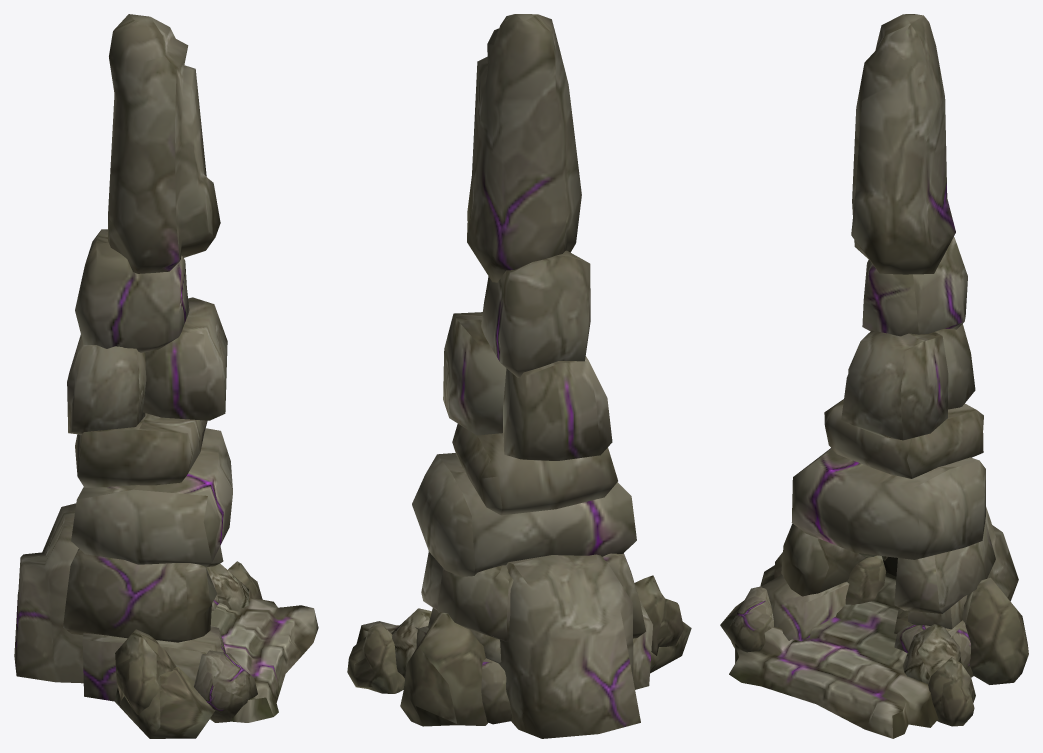
The model's file is DN_gh_tower03.FBX.
3 renders of one model, left to right at view 1: azimuth 30°, elevation 25°; view 2: azimuth 150°, elevation 25°; view 3: azimuth 270°, elevation 25°, orthographic. The views are drawn at different scales.
Parts seen in each view (by area): view 1: DN_gh_tower03; view 2: DN_gh_tower03; view 3: DN_gh_tower03.
Boxes of the visible parts, box(x1,y1,x2,y2) form: DN_gh_tower03: box(14, 14, 318, 738); DN_gh_tower03: box(347, 14, 691, 738); DN_gh_tower03: box(720, 14, 1028, 738).
Size of the model in its own units: 631 by 1375 by 596.
